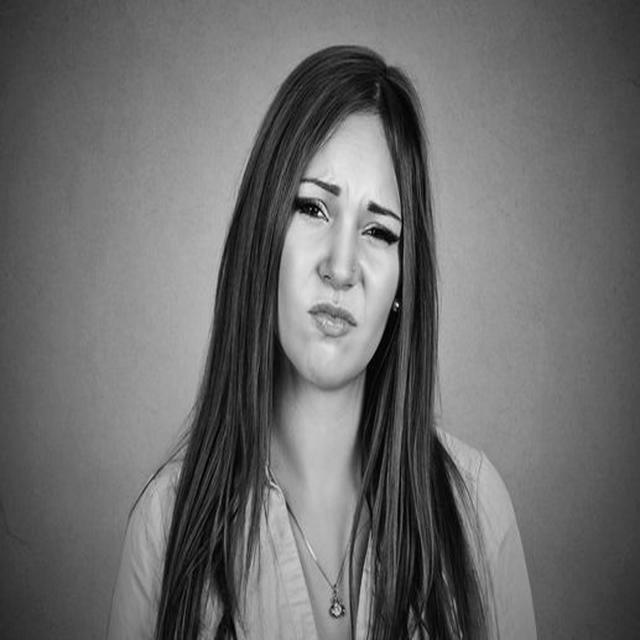Disgust: (277, 104, 403, 390)
